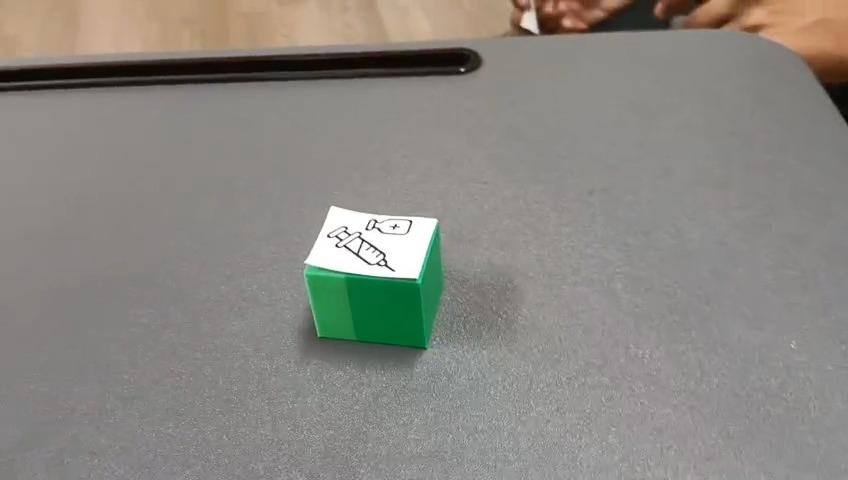antiseptic cream: (301, 203, 444, 350)
